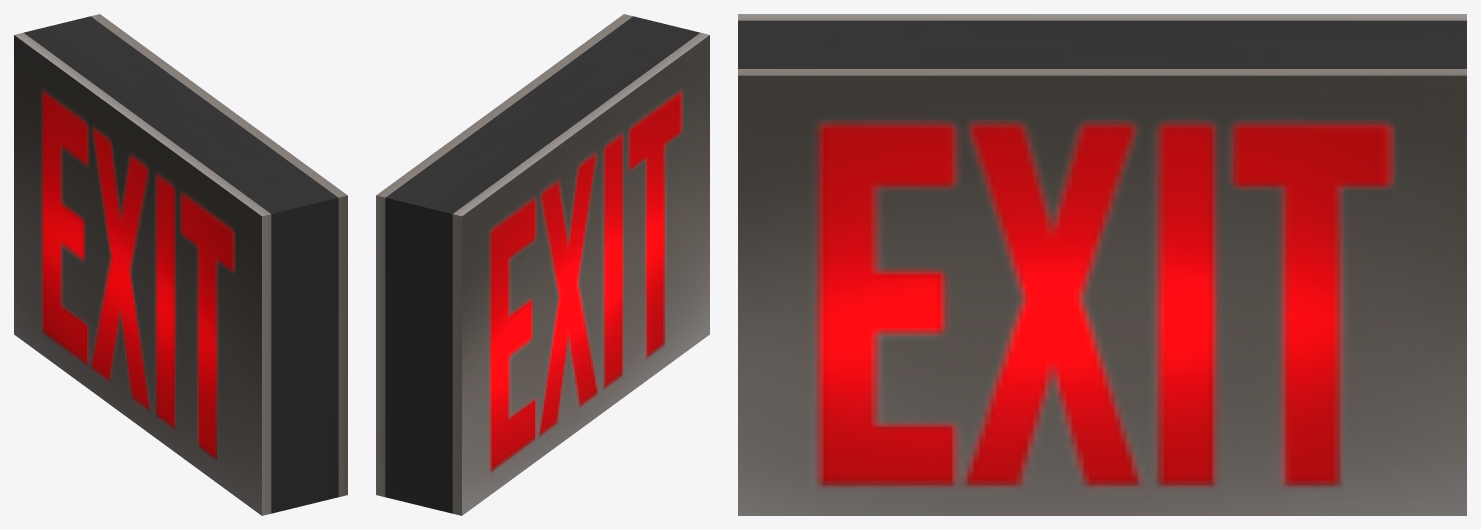
File: exit_sign_red.glb
3 renders of one model, left to right at view 1: azimuth 30°, elevation 25°; view 2: azimuth 150°, elevation 25°; view 3: azimuth 270°, elevation 25°, orthographic. The views are drawn at different scales.
Parts seen in each view (by area): view 1: Object_2; view 2: Object_2; view 3: Object_2.
Boxes of the visible parts, x1=… form: Object_2: x1=14, y1=14, x2=347, y2=515; Object_2: x1=376, y1=14, x2=709, y2=515; Object_2: x1=738, y1=14, x2=1466, y2=515.
Size of the model in its own units: 0.6 by 2 by 3.
Materials: 1 (1 with a texture image).
